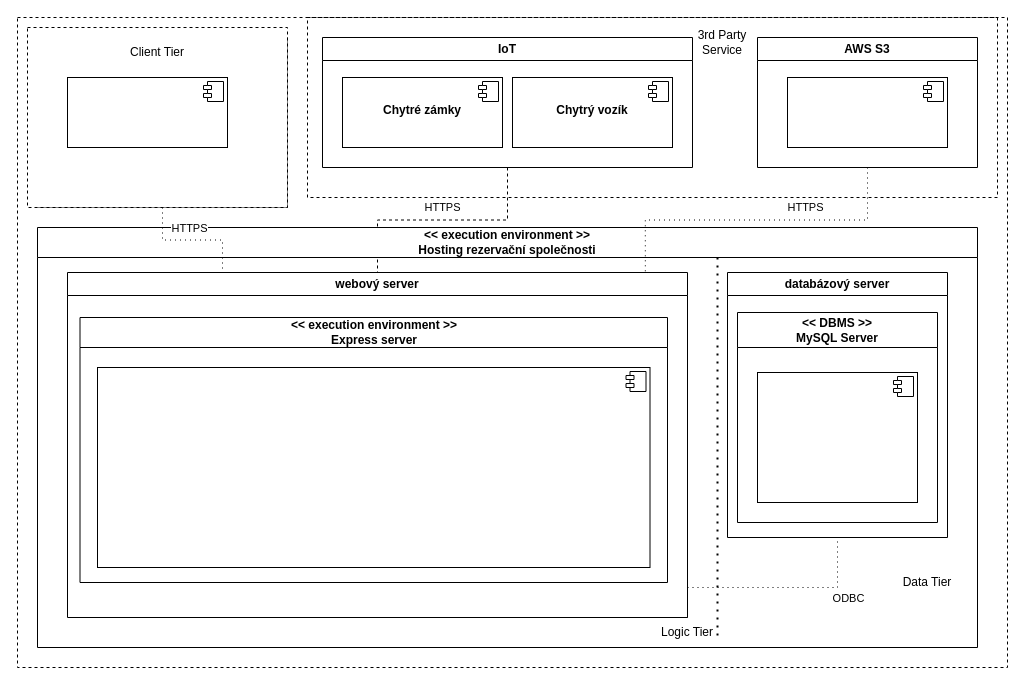
Some shapes in this 1025 by 685 pixel diagram are drawn without their labels. Each missing label, with the centre of its shape:
Aplikace webové API: the point at 373,467
Databáze: the point at 837,437
Uložiště dokumentů: the point at 867,112
webová aplikace: the point at 147,112
